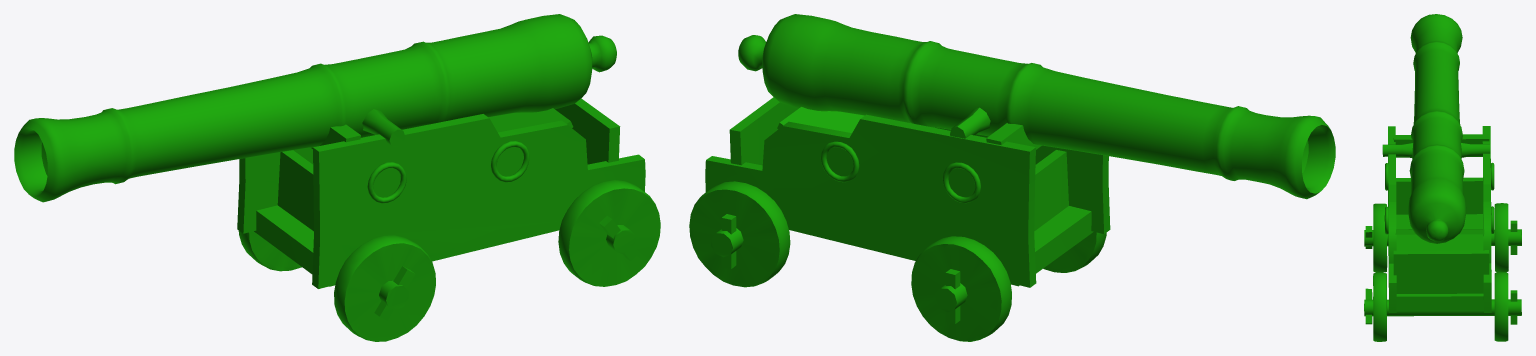
Rendered from finalCannon1.obj.
3 renders of one model, left to right at view 1: azimuth 30°, elevation 25°; view 2: azimuth 150°, elevation 25°; view 3: azimuth 270°, elevation 25°, orthographic. The views are drawn at different scales.
Parts seen in each view (by area): view 1: cannon_full.001_cannon_full.001_APS_cannon.001; view 2: cannon_full.001_cannon_full.001_APS_cannon.001; view 3: cannon_full.001_cannon_full.001_APS_cannon.001.
Part boxes in pixels (x1=…): cannon_full.001_cannon_full.001_APS_cannon.001: x1=14, y1=14, x2=660, y2=341; cannon_full.001_cannon_full.001_APS_cannon.001: x1=689, y1=14, x2=1335, y2=341; cannon_full.001_cannon_full.001_APS_cannon.001: x1=1364, y1=14, x2=1521, y2=341.
Size of the model in its own units: 0.2229 by 0.0936 by 0.082.
